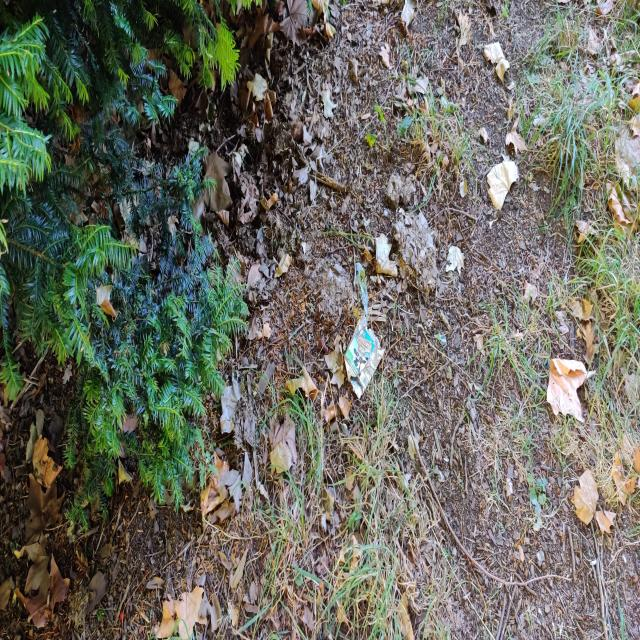litter: (344, 315, 385, 399), (547, 359, 595, 422)
